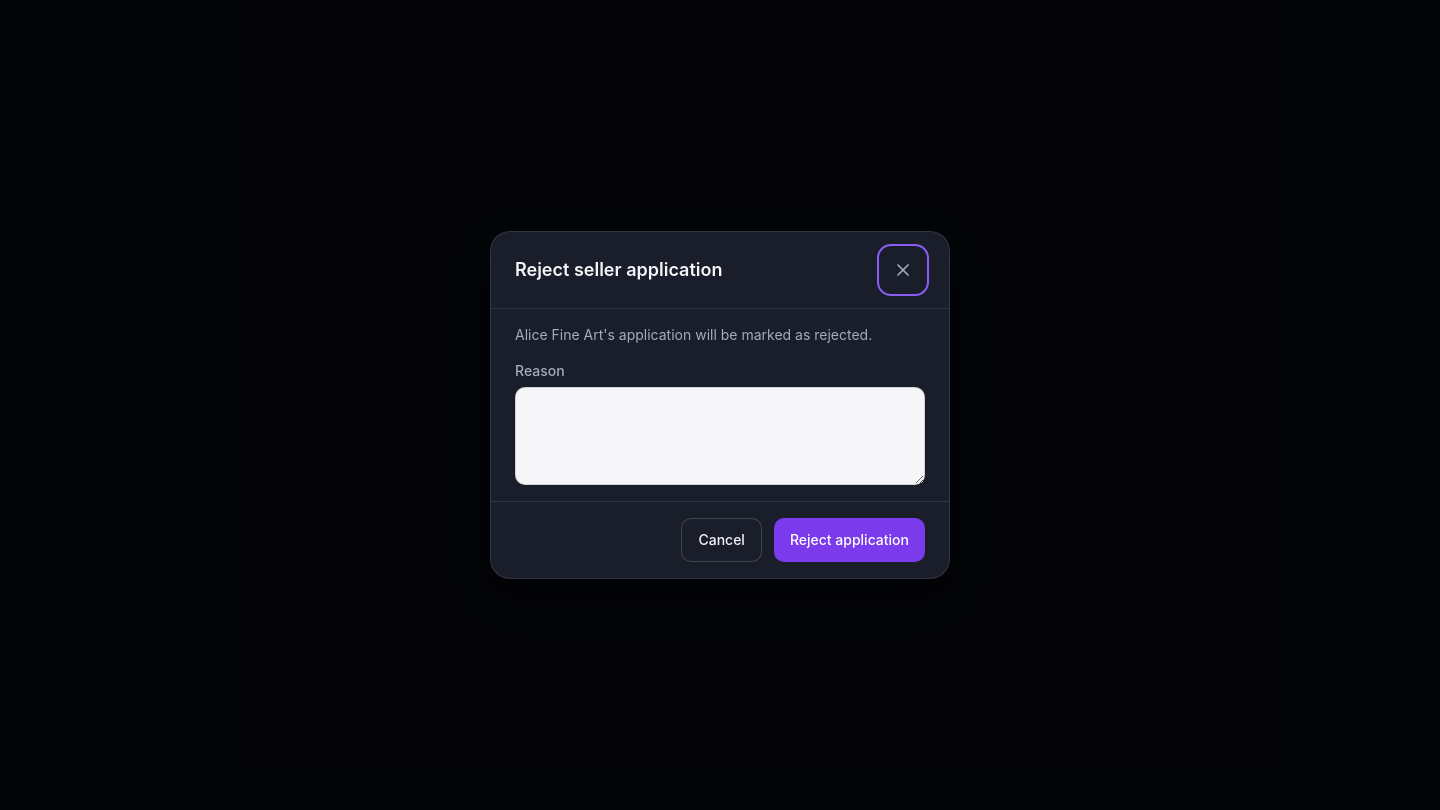
Test: ModerationActionModal — reject mode (reason required) › blocks confirmation and shows an error for a blank reason
Step 1. Click the button "Reject application" → x=849, y=540, box [774,518,925,562]
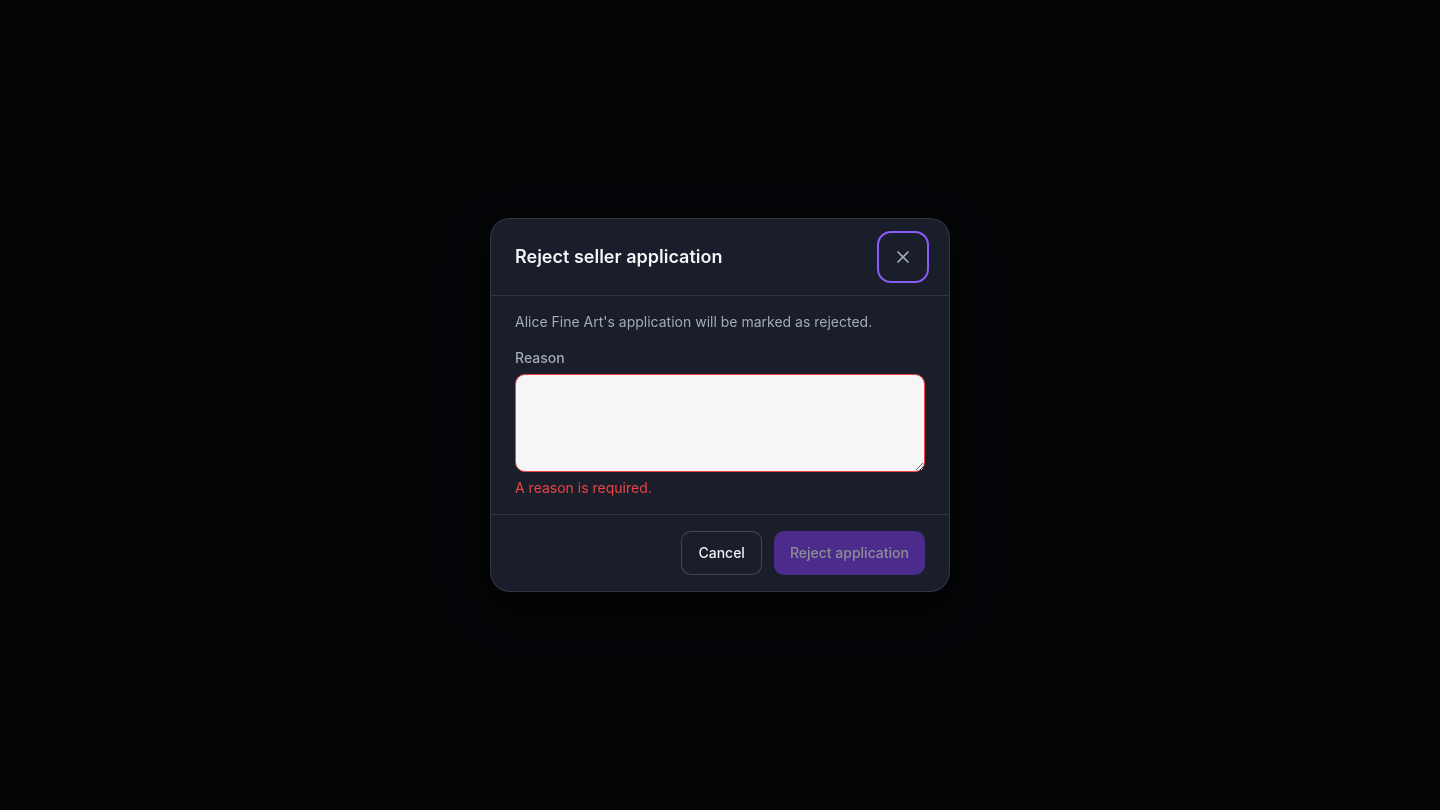
Check: the message shows "reason is required", box [515,479,652,496]
